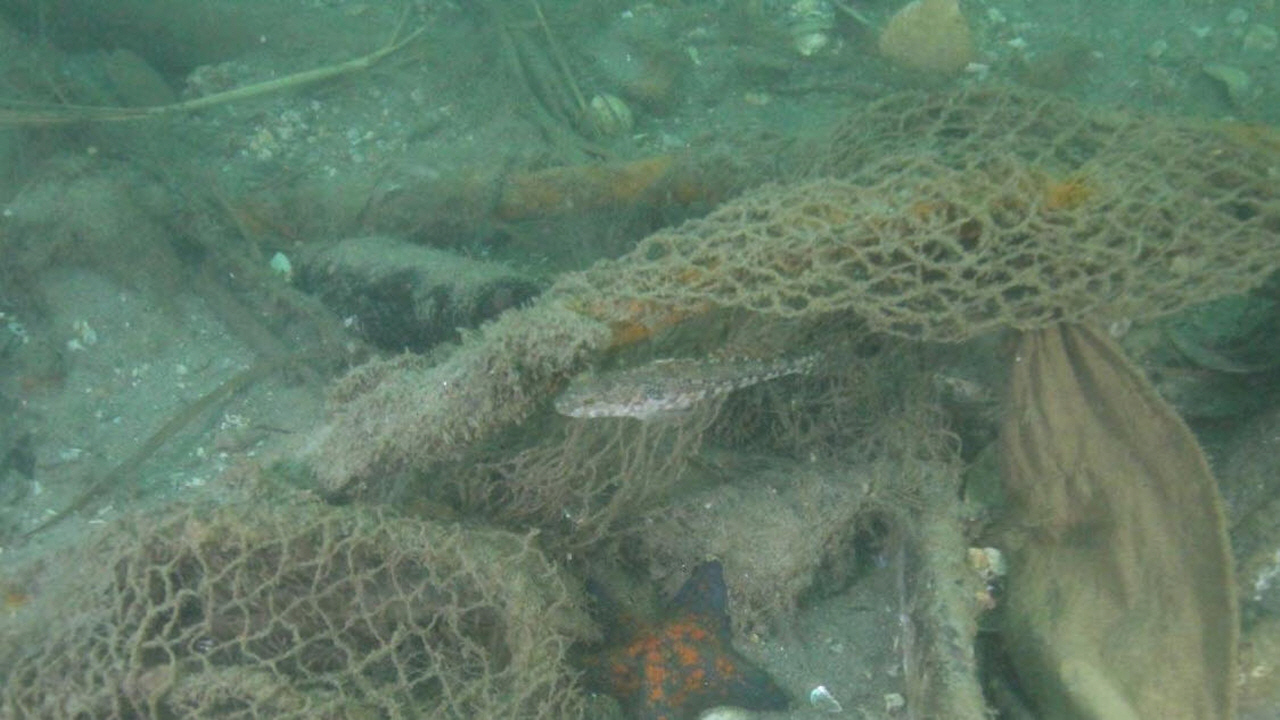fish net: (0, 83, 1280, 720)
